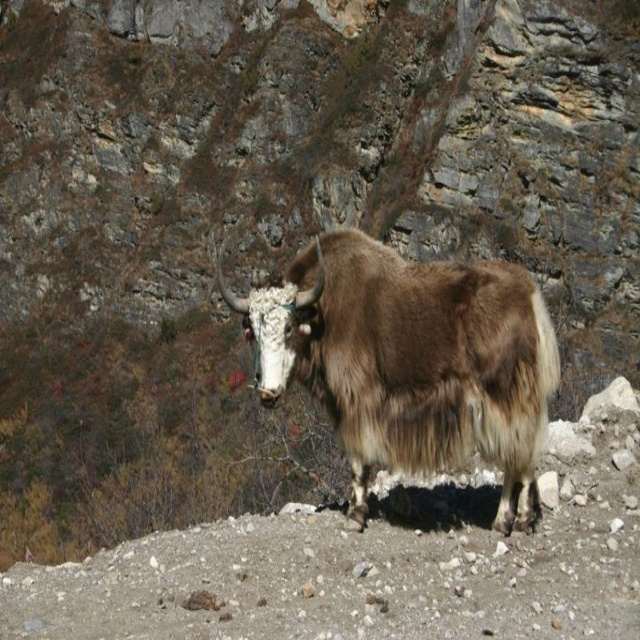Cattle: (214, 234, 562, 538)
